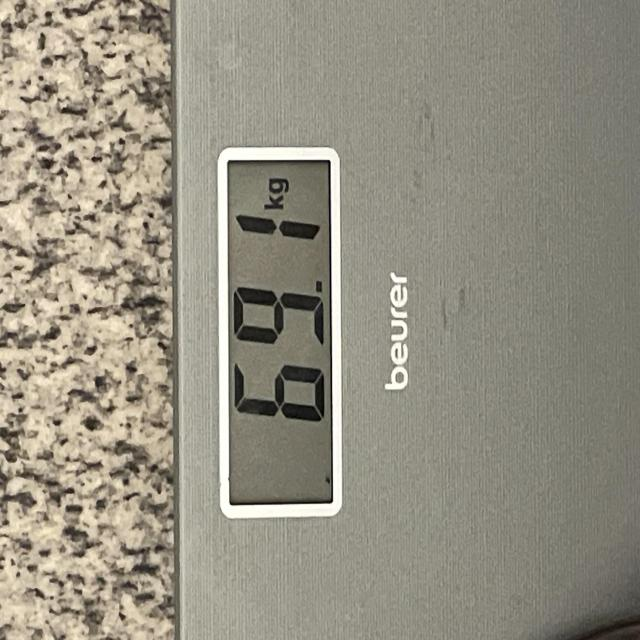ws: (216, 147, 344, 523)
